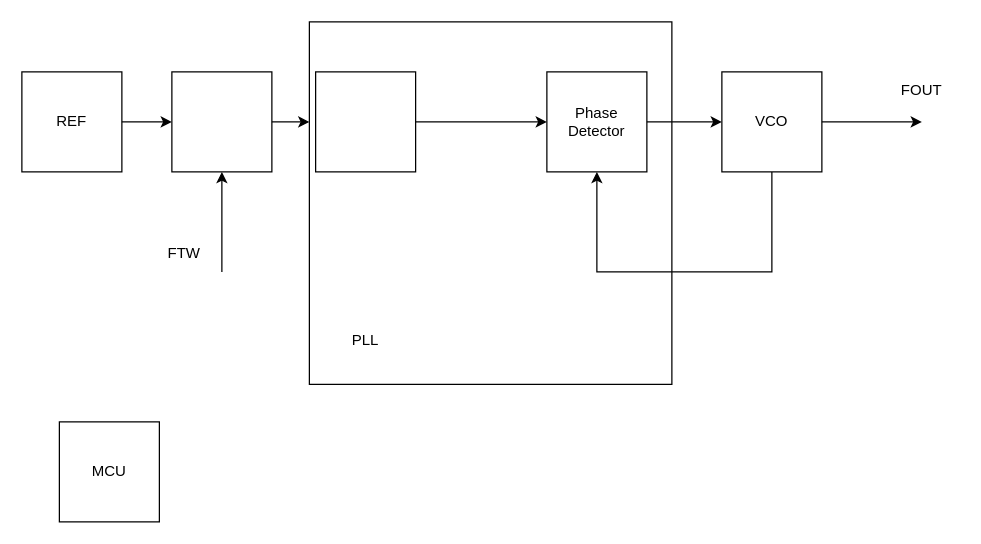
Image size: 981x544. Some labels were removed from this diagram. Here are the shapes that lost their labels. From the top down, the centre of each, then its label:
the point at 221,121: DDS
the point at 365,121: DIV
